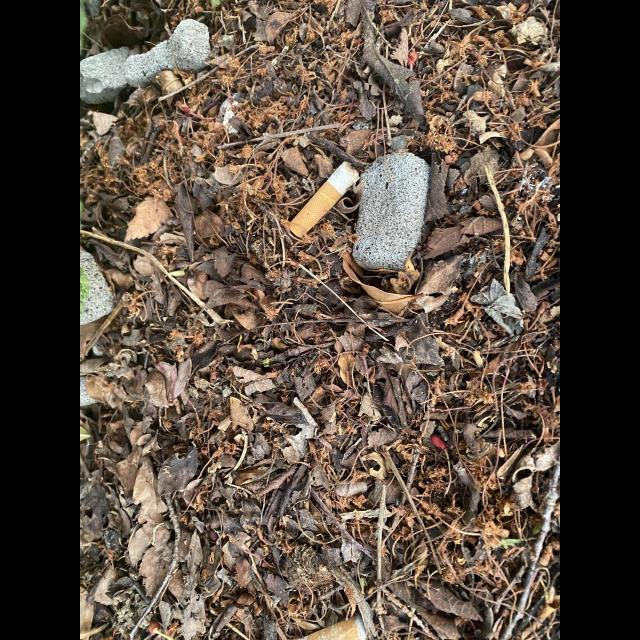cigarette: (289, 161, 360, 238)
